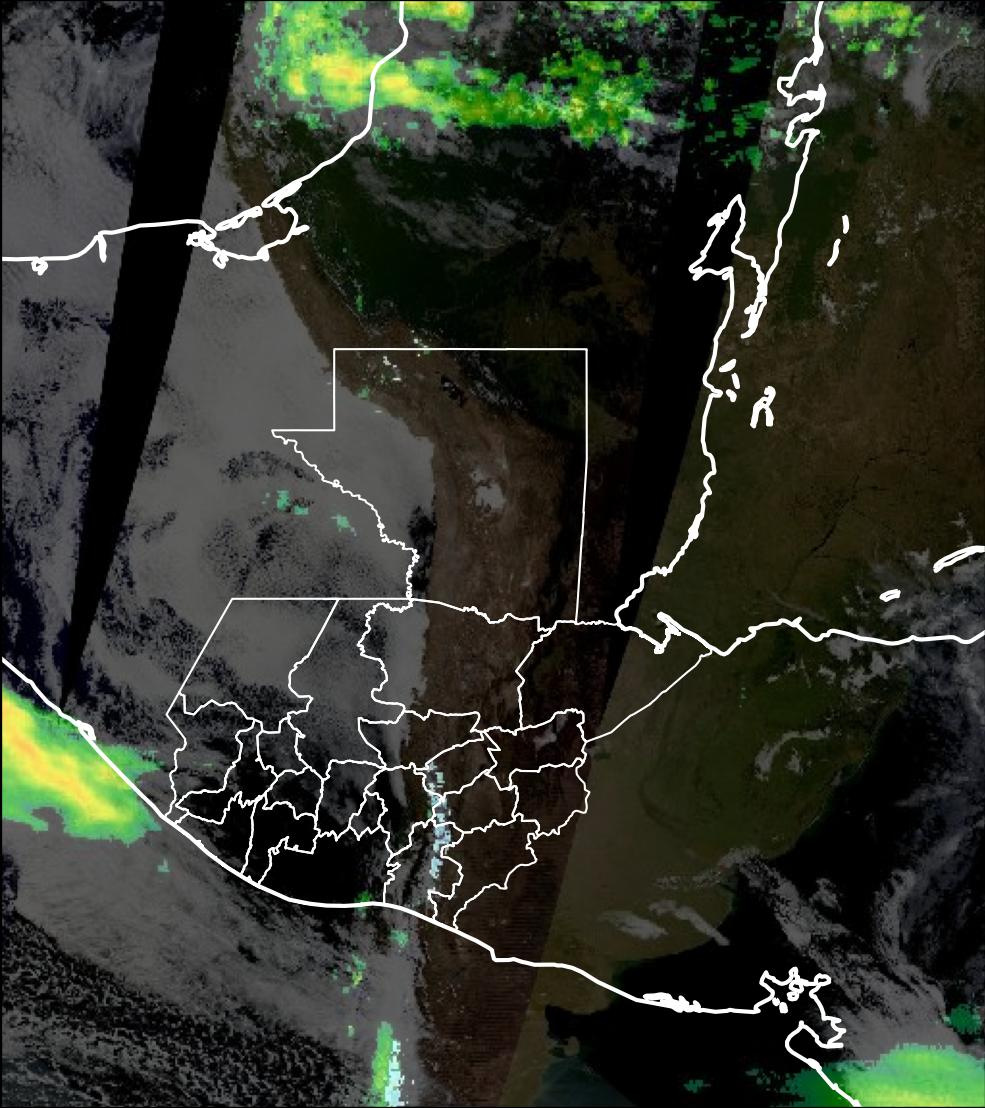precipitacion: (1, 677, 127, 844)
